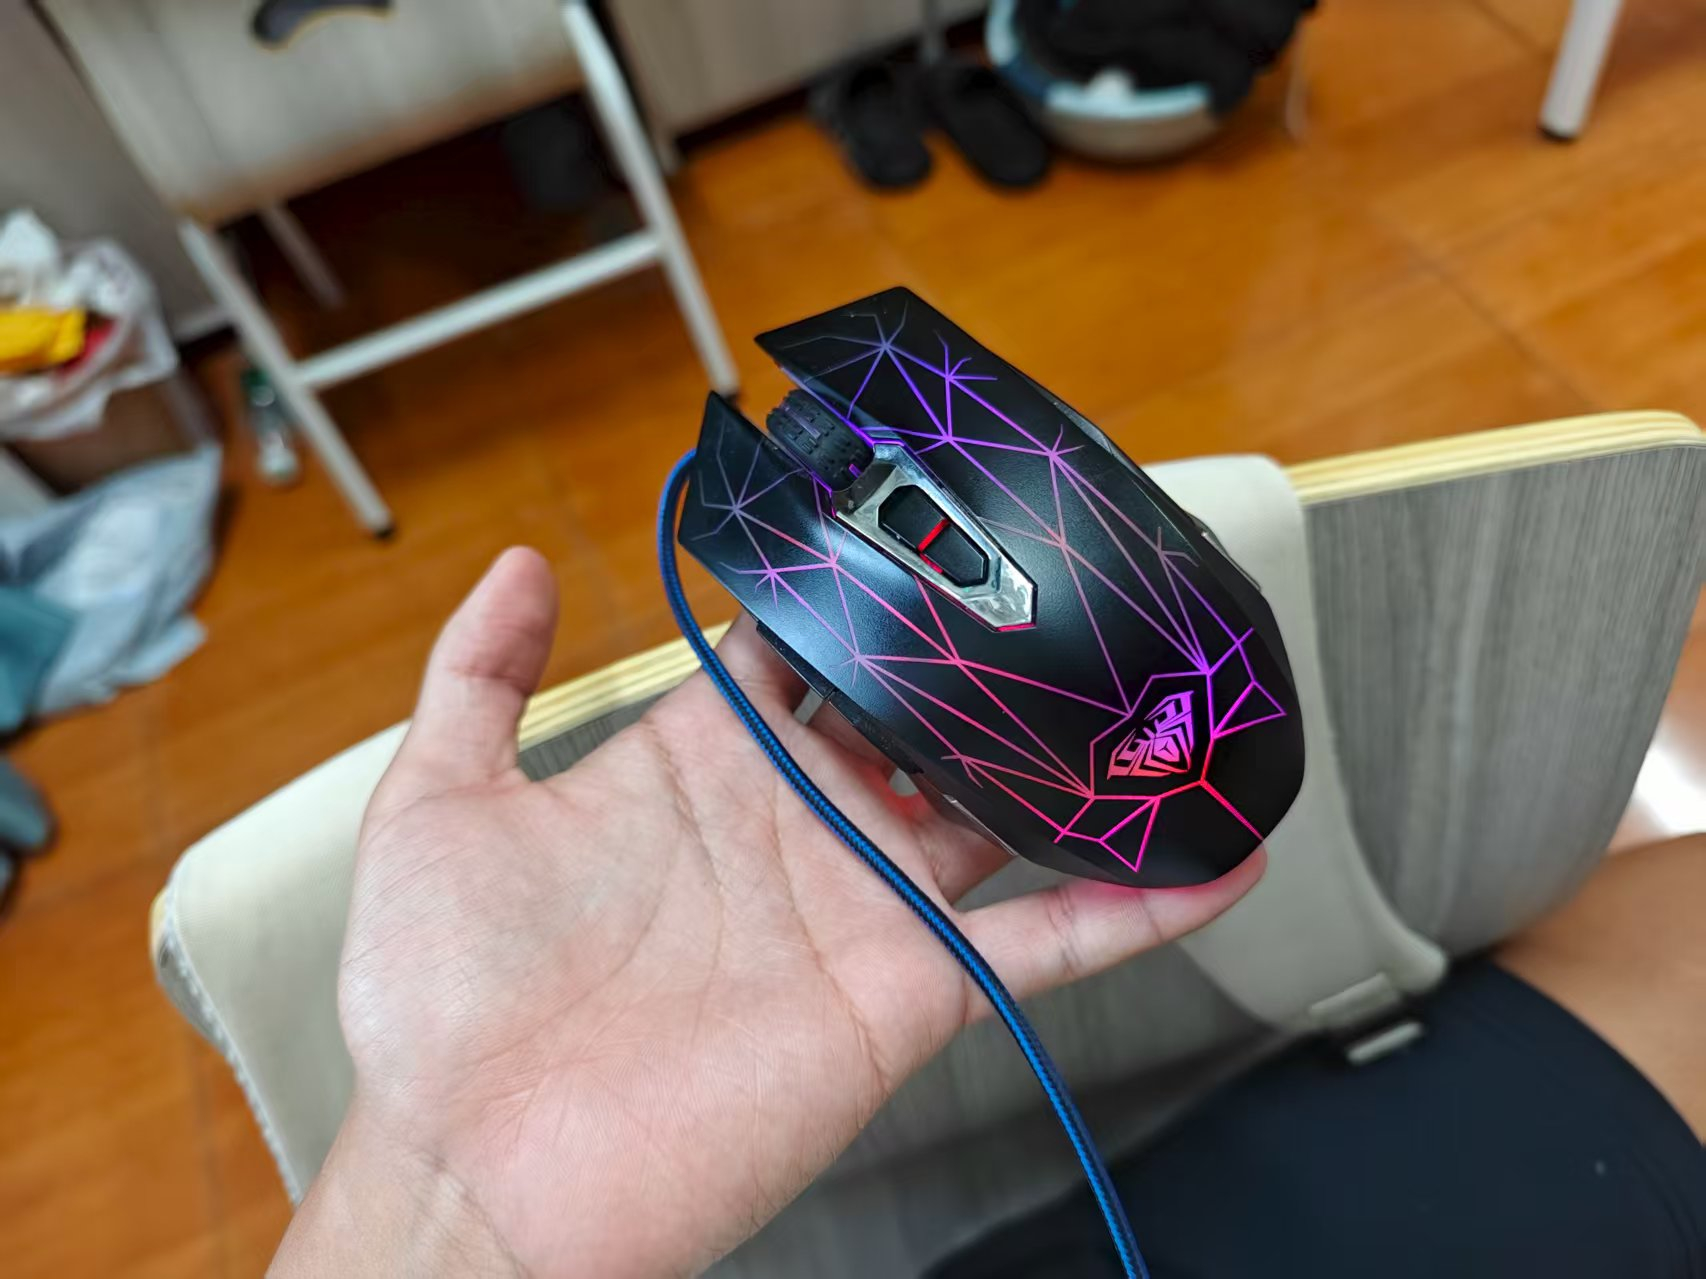mouse: (639, 278, 1312, 931)
